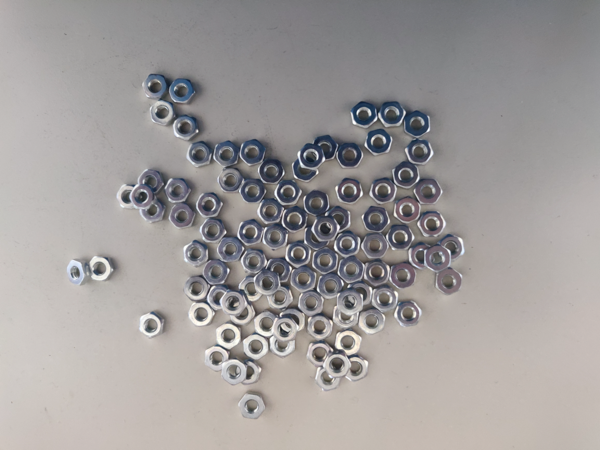nut: (435, 268, 463, 296), (323, 351, 352, 378), (393, 162, 420, 190), (369, 178, 397, 205), (338, 256, 365, 284), (268, 332, 296, 359), (405, 139, 434, 165), (414, 179, 443, 205), (417, 211, 446, 237), (298, 288, 324, 317), (255, 268, 281, 297), (393, 303, 423, 328), (365, 130, 392, 157), (336, 178, 363, 205), (424, 246, 451, 273), (239, 393, 266, 420), (333, 303, 360, 330), (342, 356, 369, 383), (307, 341, 334, 368), (139, 312, 166, 339), (172, 115, 199, 142), (298, 143, 325, 170), (317, 273, 344, 300), (405, 111, 431, 139), (350, 102, 378, 128), (336, 144, 364, 170), (394, 196, 420, 224), (362, 207, 390, 233), (387, 226, 415, 252), (150, 100, 178, 126), (285, 241, 311, 269), (262, 223, 288, 251), (217, 237, 245, 263), (361, 235, 390, 260), (311, 217, 340, 242), (237, 357, 262, 386), (438, 235, 465, 261), (364, 260, 391, 286), (186, 142, 213, 168), (213, 141, 239, 168), (240, 140, 266, 167), (139, 198, 166, 224), (169, 204, 196, 230), (281, 206, 307, 233), (290, 266, 316, 293), (237, 220, 264, 246), (266, 285, 293, 311), (371, 288, 399, 313), (358, 310, 386, 335), (240, 249, 268, 274), (222, 358, 247, 386), (334, 232, 360, 258), (170, 78, 196, 104), (184, 276, 210, 302), (216, 324, 242, 350), (390, 264, 417, 289), (307, 315, 332, 342), (138, 169, 165, 194), (304, 190, 329, 217), (338, 289, 362, 317), (410, 244, 435, 270), (89, 256, 114, 282), (165, 178, 191, 203), (292, 158, 318, 183), (266, 258, 292, 283), (243, 335, 268, 361), (335, 332, 362, 356), (314, 367, 341, 391), (67, 259, 91, 286), (196, 194, 223, 218), (200, 219, 227, 243), (258, 160, 285, 184), (313, 248, 337, 275), (255, 312, 279, 339), (205, 346, 229, 373), (274, 182, 302, 205), (239, 180, 267, 203), (142, 74, 167, 99), (379, 103, 405, 127), (218, 169, 244, 193), (130, 185, 156, 209), (184, 241, 208, 267), (312, 136, 338, 160), (325, 206, 351, 230), (305, 225, 329, 251), (203, 261, 229, 285), (188, 303, 214, 327), (220, 292, 246, 316), (115, 185, 142, 208), (348, 283, 373, 307), (272, 319, 298, 342), (229, 303, 255, 326), (258, 199, 281, 224), (280, 309, 304, 332), (207, 287, 231, 309), (239, 277, 260, 302)
